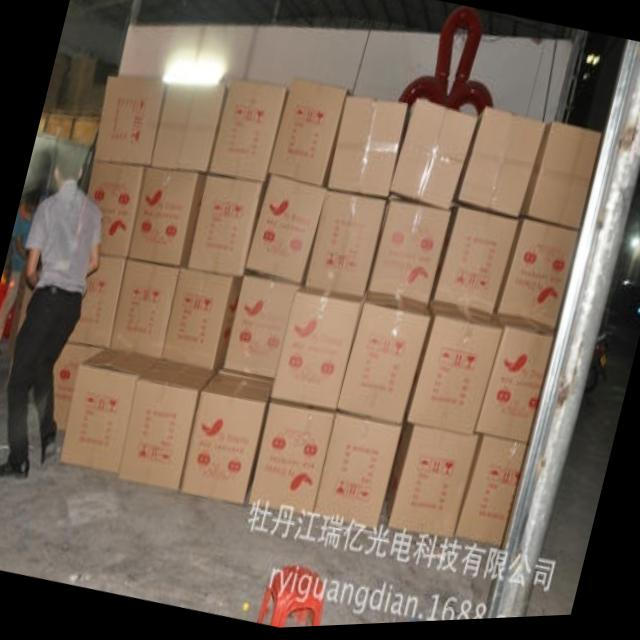box: (402, 305, 502, 439), (117, 358, 215, 493), (58, 347, 161, 472), (178, 374, 271, 507), (335, 297, 430, 427), (269, 288, 365, 411), (385, 428, 478, 542), (313, 415, 401, 533), (453, 110, 545, 222), (474, 323, 554, 448), (388, 101, 477, 213), (249, 403, 335, 517), (431, 209, 519, 318), (492, 226, 579, 335), (243, 175, 326, 287), (365, 200, 450, 306), (520, 126, 603, 233), (305, 191, 387, 298), (208, 79, 289, 186), (326, 98, 409, 200), (269, 80, 347, 188), (222, 277, 300, 382), (161, 271, 242, 372), (186, 175, 267, 276), (454, 441, 526, 550), (127, 168, 205, 268), (148, 85, 229, 173), (108, 261, 178, 356), (93, 77, 167, 165), (85, 161, 146, 255), (67, 254, 126, 347), (54, 342, 104, 431)
